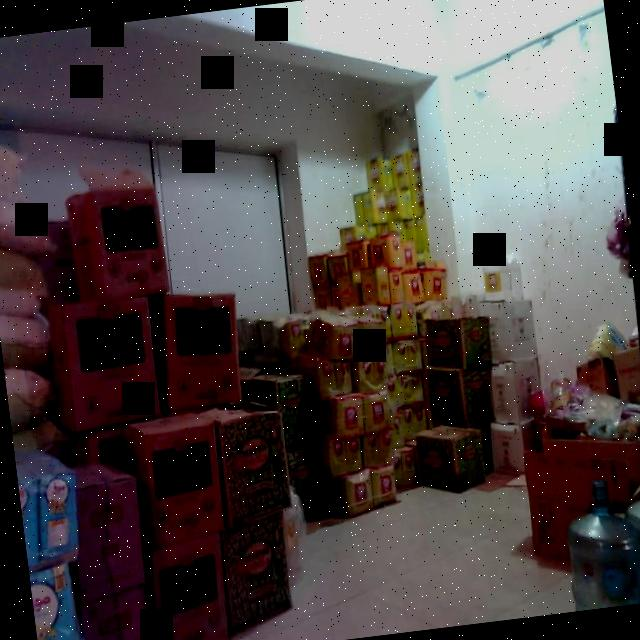box: (54, 294, 163, 426), (71, 170, 173, 302), (135, 417, 226, 549), (159, 281, 246, 413), (220, 414, 294, 524), (72, 479, 143, 589), (152, 546, 231, 640), (222, 523, 295, 616), (419, 426, 486, 496), (429, 363, 494, 425), (422, 310, 491, 366), (83, 597, 148, 640), (370, 233, 404, 269), (329, 254, 347, 279)
